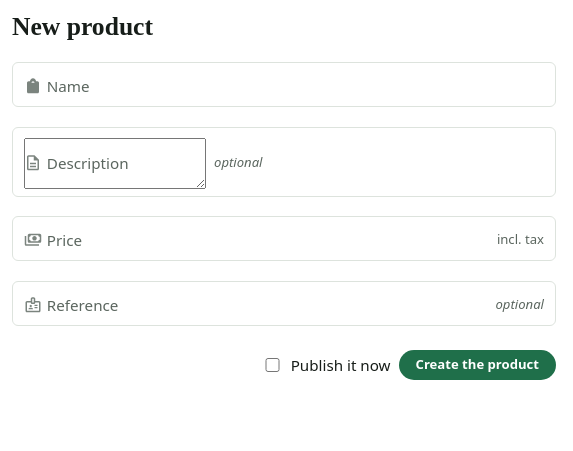
it: NewProductView › says so when the shop does not answer, and stays on the form
In the field labelled "Name": (284,86) [24, 73, 544, 99], type "Savon"
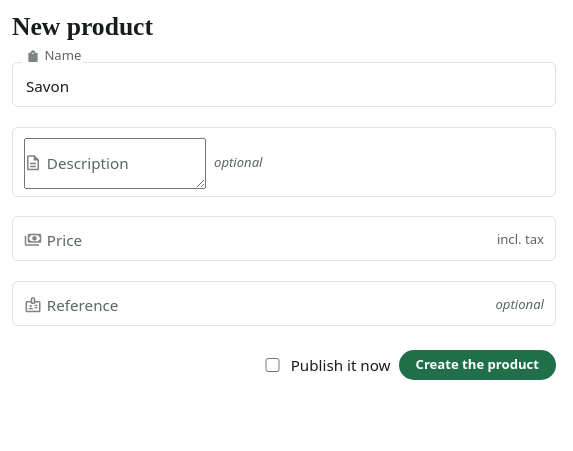
In the field labelled "Price": (256,240) [24, 227, 489, 254], type "5"
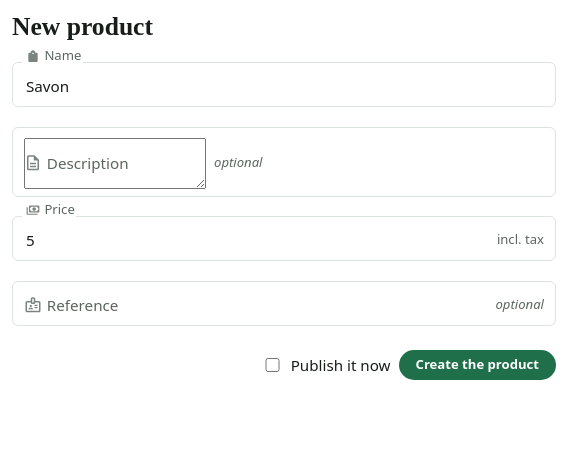
Submit the form
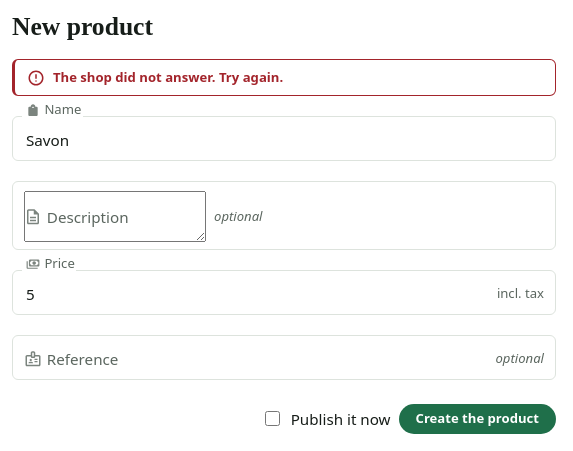
expect the message "The shop did not answer. Try again." is shown: met, box [12, 59, 556, 96]
